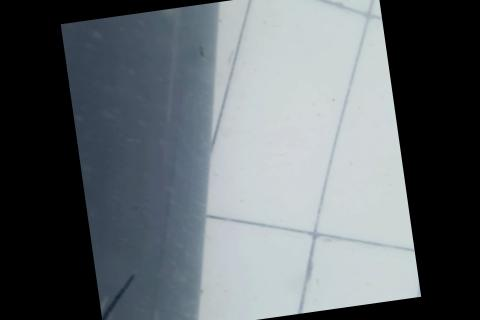keretakan: (95, 273, 143, 320)
